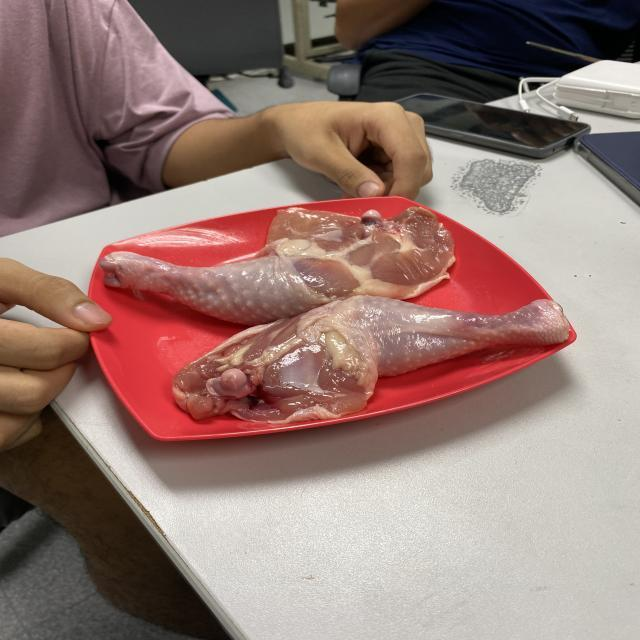quater: (170, 289, 566, 426), (95, 205, 462, 305)
